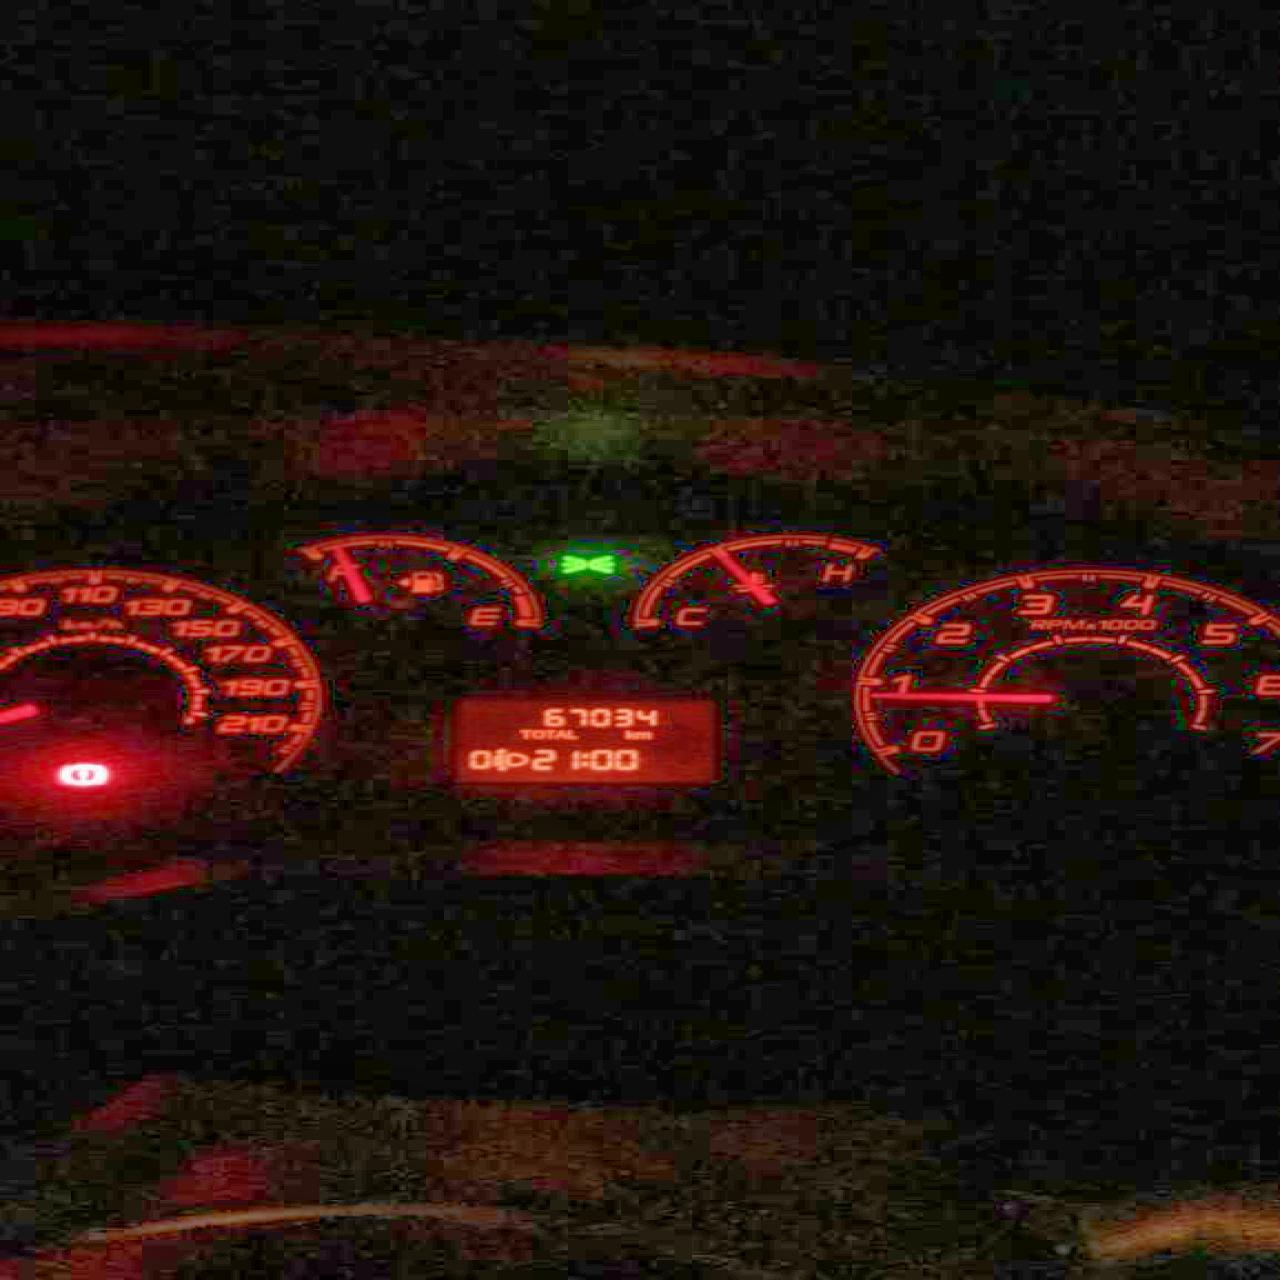0: (612, 747, 641, 771), (465, 748, 490, 771), (590, 748, 610, 771), (588, 707, 610, 728)
1: (566, 748, 579, 770)
2: (531, 747, 552, 771)
3: (613, 706, 633, 726)
4: (634, 707, 654, 724)
6: (539, 706, 566, 726)
7: (568, 706, 586, 726)
X: (579, 750, 588, 769), (517, 728, 530, 738), (635, 730, 652, 738), (532, 728, 544, 738), (566, 729, 579, 738), (624, 729, 634, 740), (554, 729, 565, 738), (544, 728, 552, 738)
odometer: (455, 696, 713, 784)
